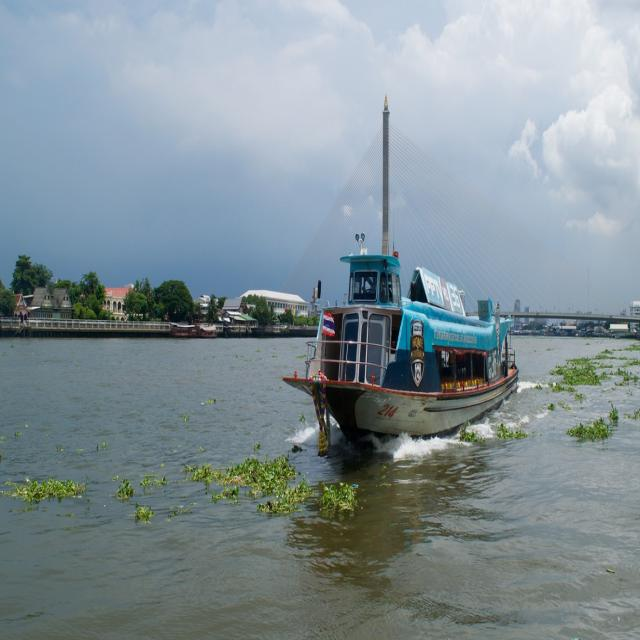houseboat: (293, 184, 524, 437)
